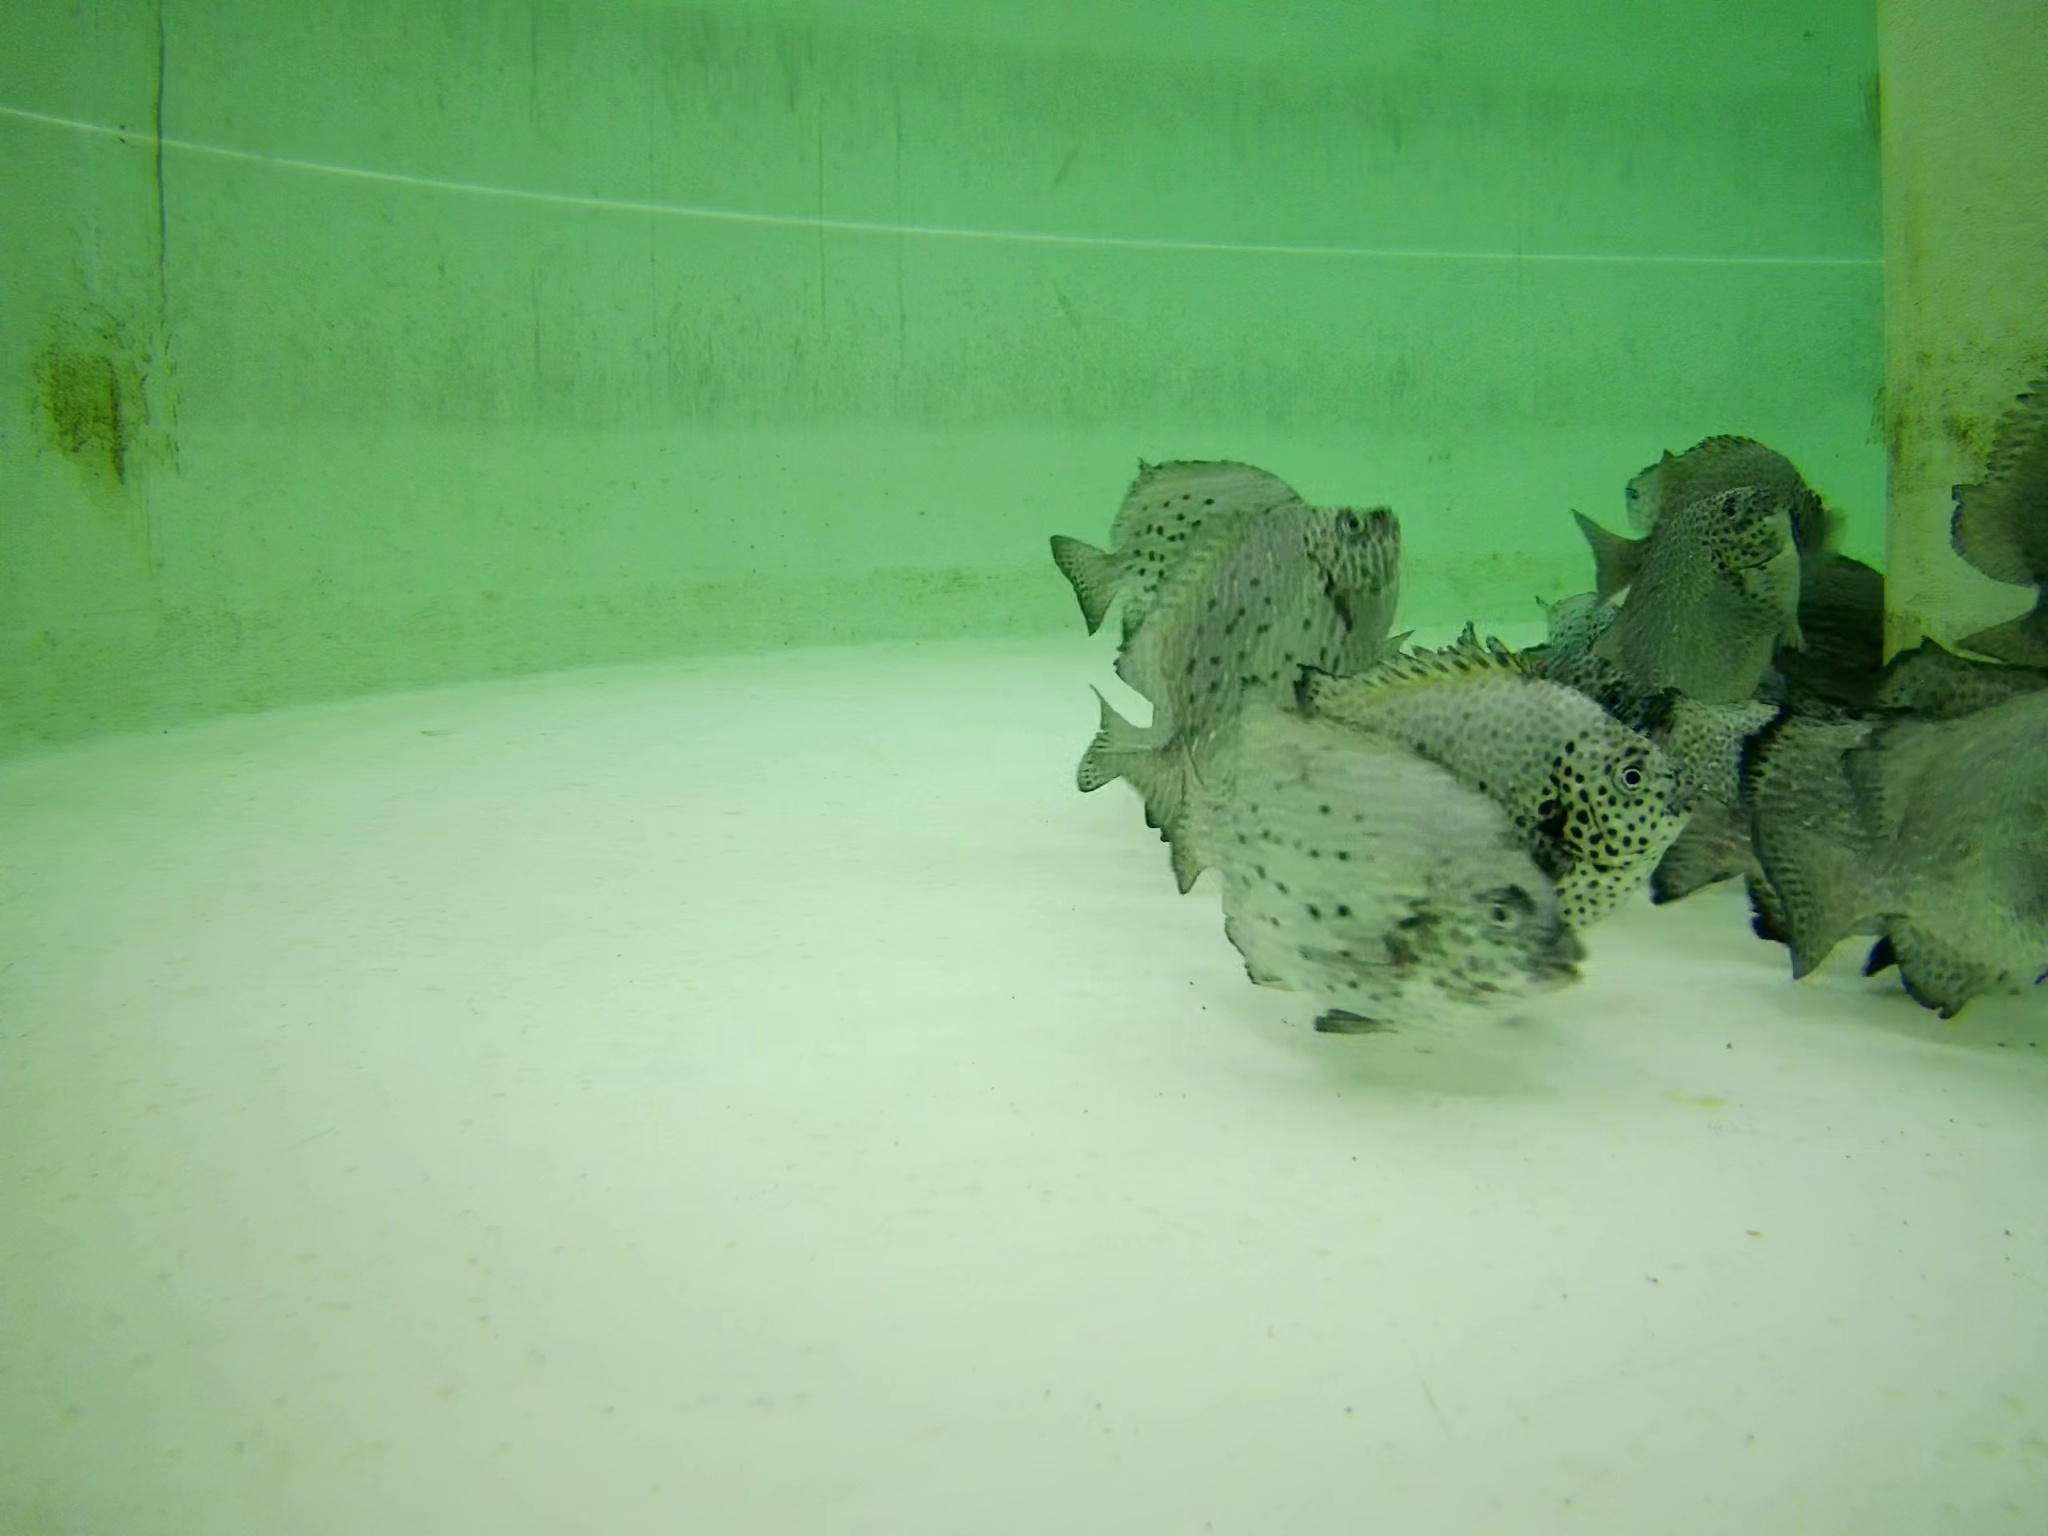fish: (1159, 678, 1585, 1028), (1285, 650, 1692, 954), (1755, 644, 2048, 997), (1079, 499, 1408, 771), (1758, 723, 2048, 981), (1663, 694, 1937, 915), (1045, 455, 1321, 639), (1585, 489, 1813, 691), (1622, 428, 1854, 553), (1945, 373, 2048, 589)
